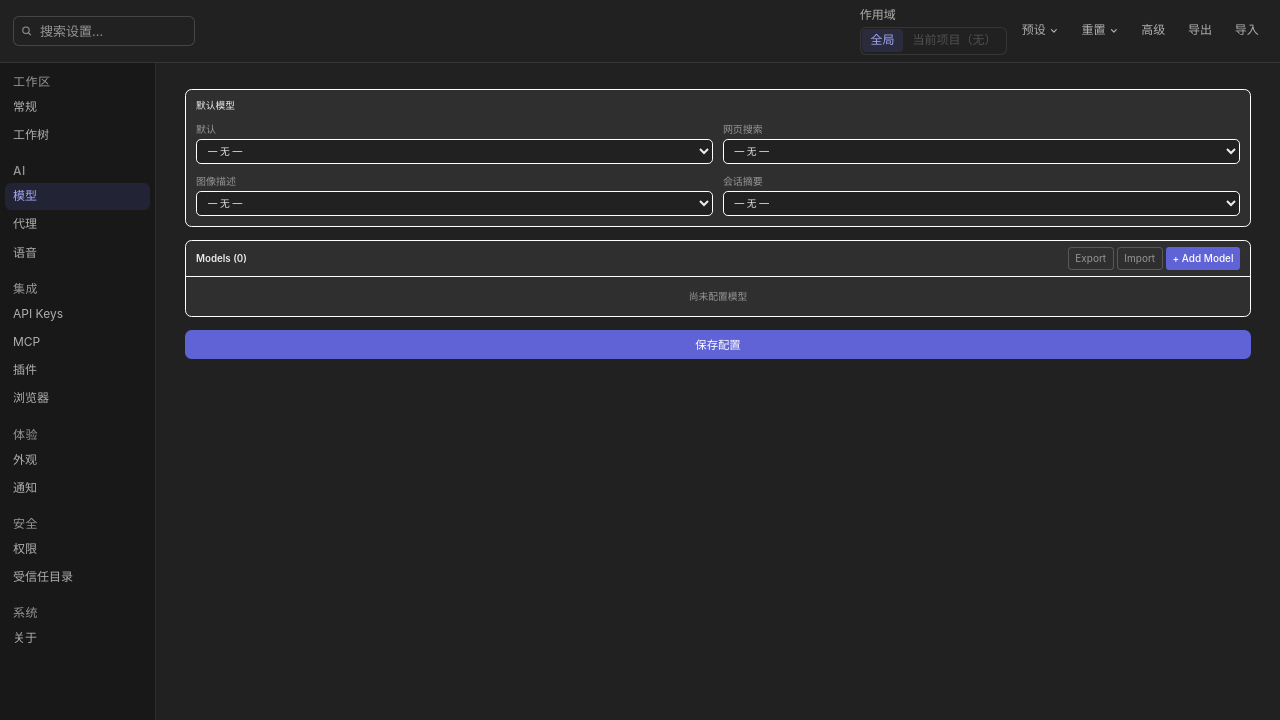
it: Settings Center (R4-07) › staged Discard reverts the draft
Expected: the navigation bar named "设置分类" is shown, [0,63,156,719]
Click the button "权限".
click(78, 549)  # box [5,536,150,563]
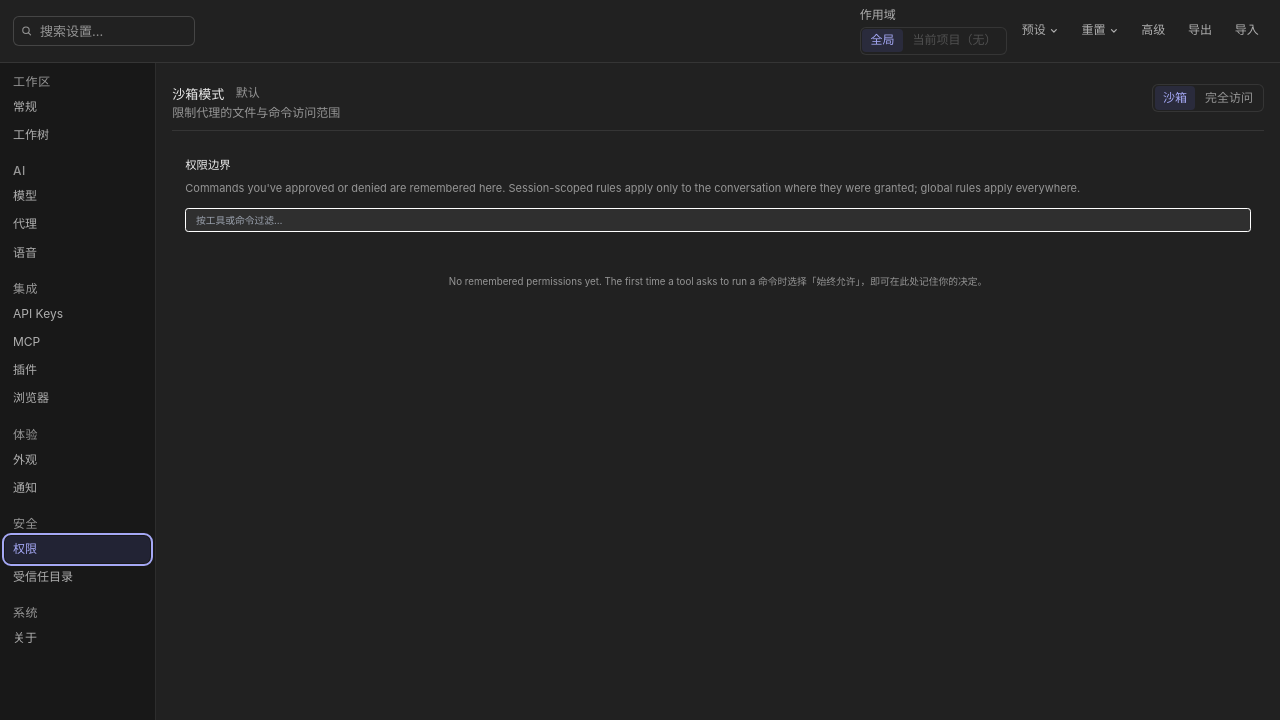
Click the radio button labelled "完全访问".
click(1229, 98)  # box [1197,86,1261,110]
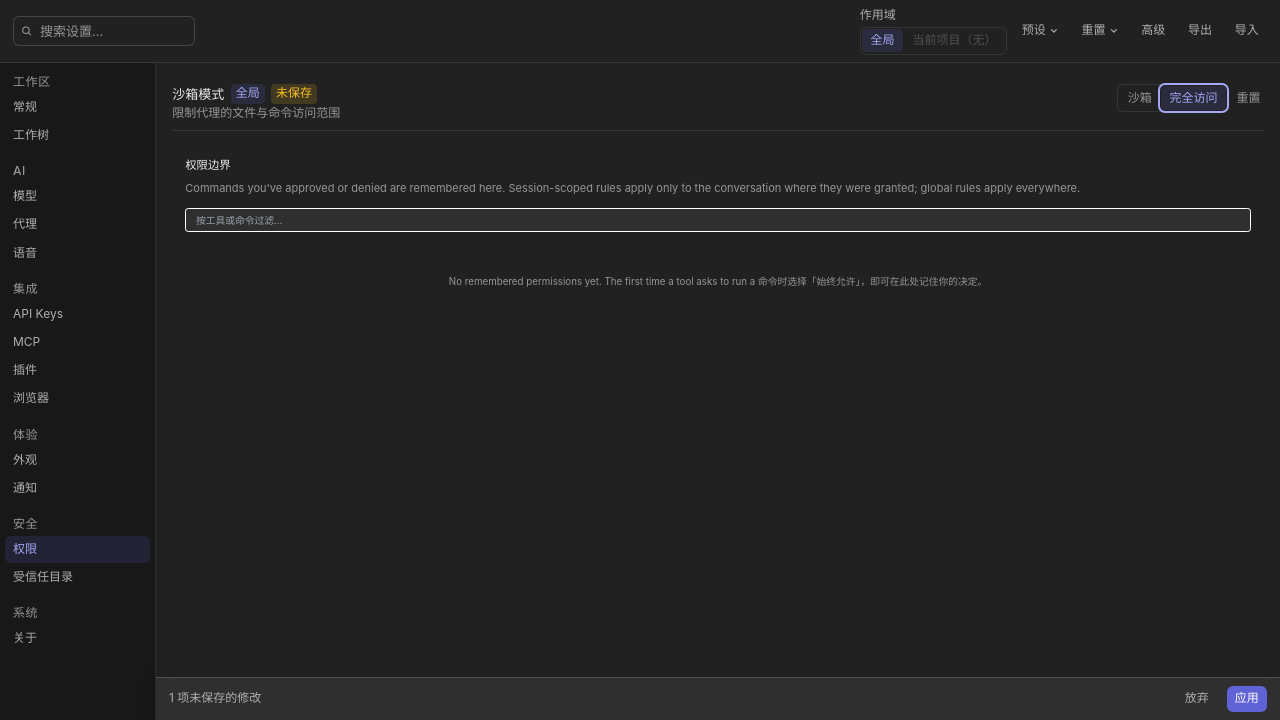
Expected: the message "1 项未保存的修改 放弃 应用" is shown, [156,677,1279,719]
Click the button "放弃".
click(1197, 699)  # box [1177,686,1217,712]
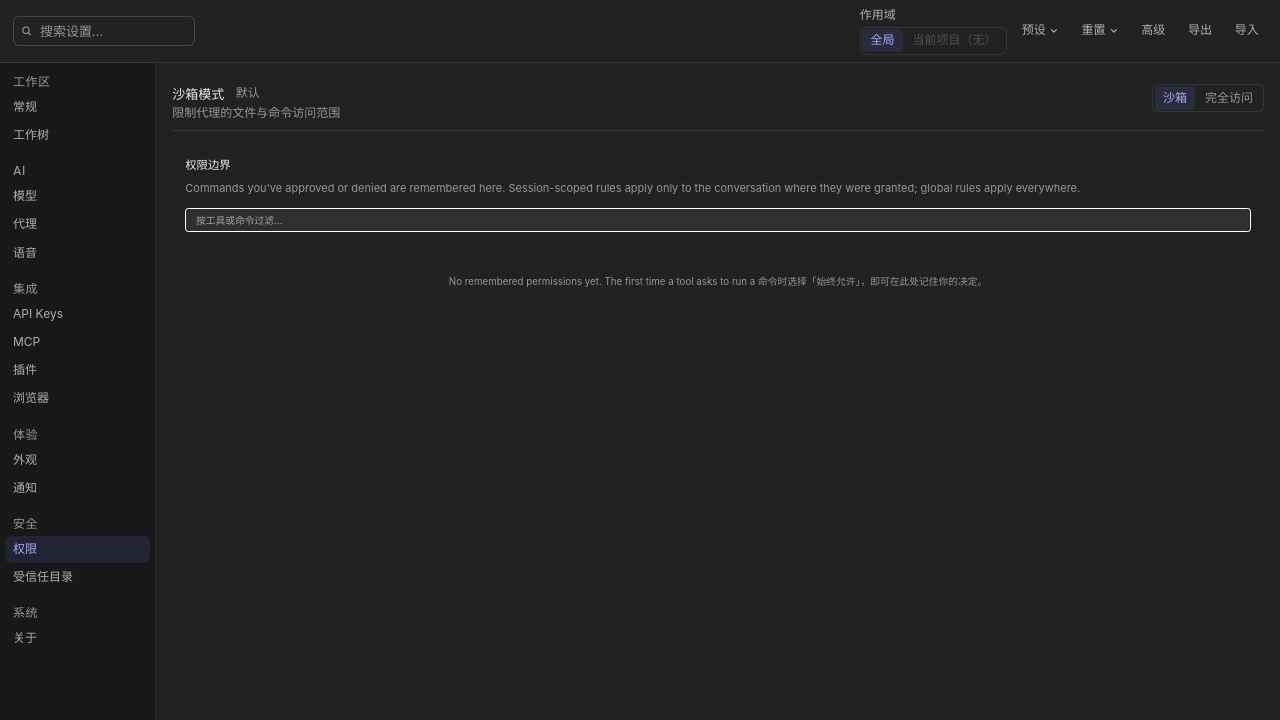
Expected: the message with test id "settings-change-bar" is gone
